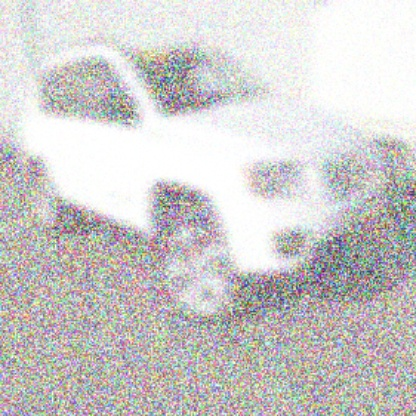Vehicle: (21, 38, 390, 330)
